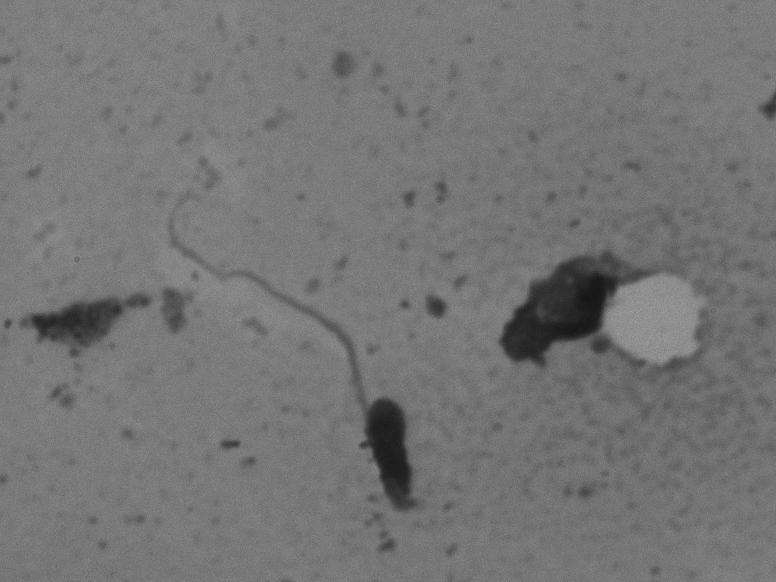Abnormal: (160, 134, 456, 538)
